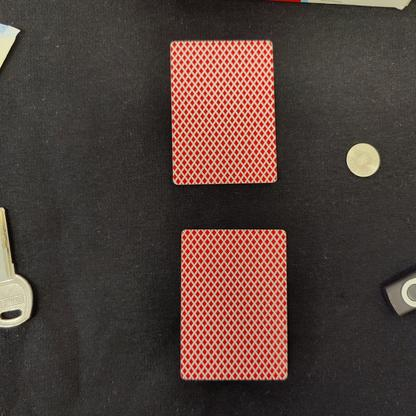card: (169, 223, 294, 386), (158, 30, 283, 193)
